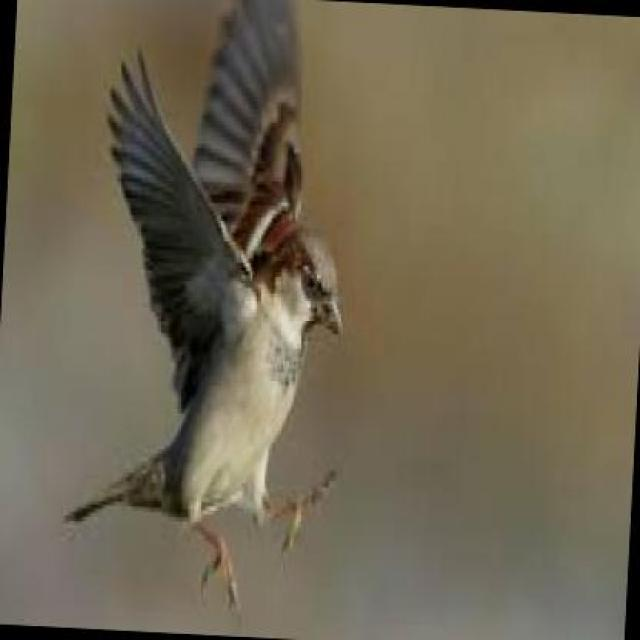Bird: (53, 0, 421, 602)
